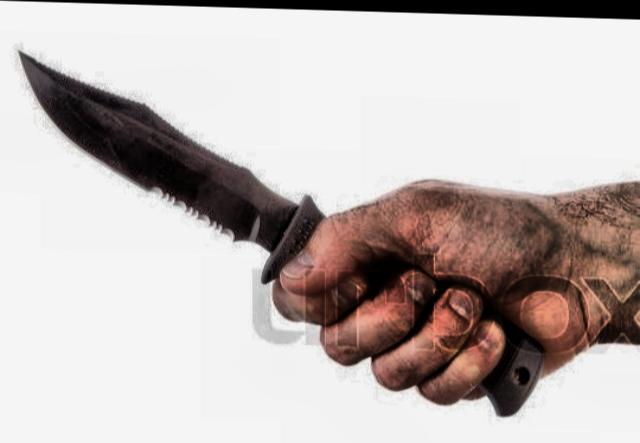knife: (9, 37, 484, 404)
